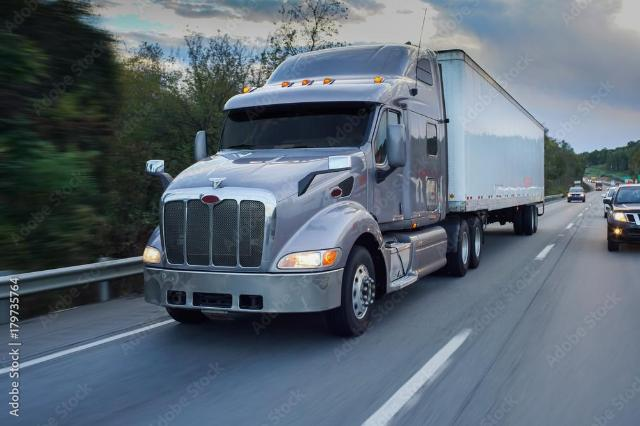truck: (134, 31, 554, 327)
